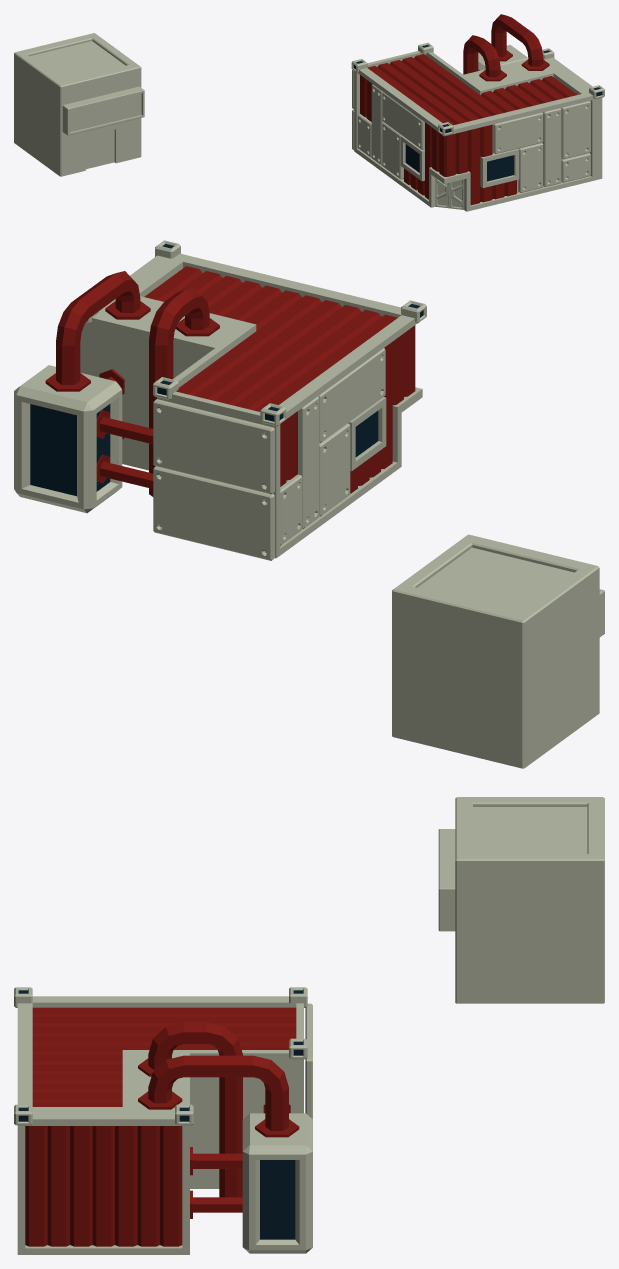
File: House 7.fbx
3 views of the same model, one above another, from view 1: azimuth 30°, elevation 25°; view 2: azimuth 150°, elevation 25°; view 3: azimuth 270°, elevation 25° (orthographic). The views are drawn at different scales.
Parts seen in each view (by area): view 1: H7_high, H5.Low, Cube; view 2: H7_high, H5.Low, Cube; view 3: H7_high, H5.Low, Cube.
Part boxes in pixels (bbox=[...]): H7_high: bbox=[351, 14, 604, 211]; H5.Low: bbox=[14, 33, 144, 176]; Cube: bbox=[30, 41, 125, 80]; H7_high: bbox=[14, 240, 426, 560]; H5.Low: bbox=[392, 534, 604, 768]; Cube: bbox=[417, 547, 574, 612]; H7_high: bbox=[14, 987, 312, 1254]; H5.Low: bbox=[438, 797, 604, 1003]; Cube: bbox=[473, 807, 587, 853].
Bounding box in the file's own units: 2500 × 672 × 1974.
